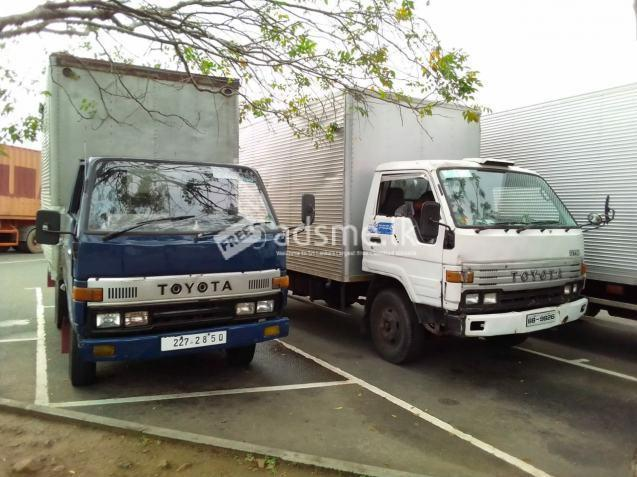truck: (237, 85, 610, 368), (34, 51, 315, 387)
